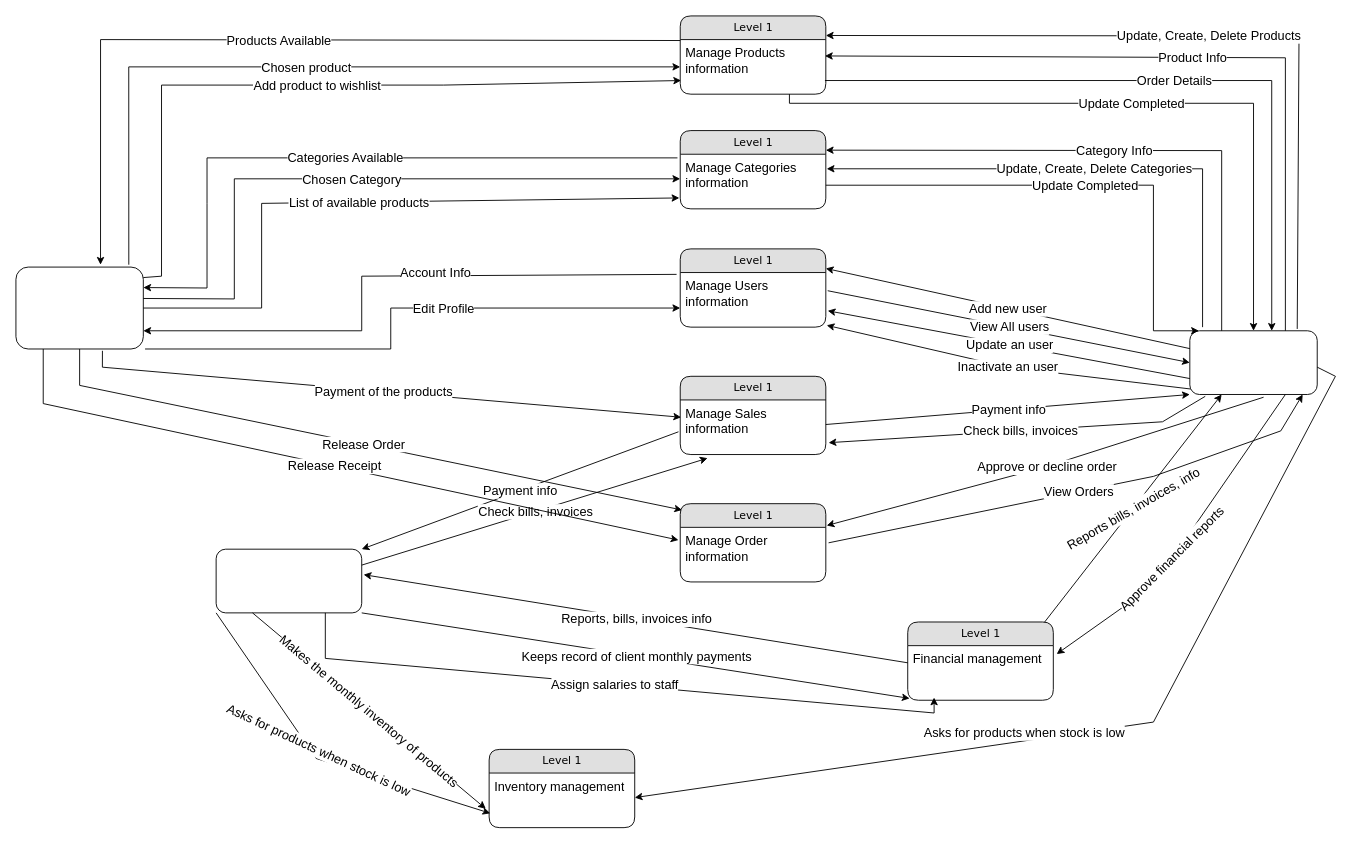
The diagram is 1359 pixels wide and 844 high, and some of its shapes have lost their labels. The shapes that lost their labels are listed below. From the top down, each one's centre as x and y in pixels, then its label:
the point at 79,307: Client
the point at 1253,362: Admin
the point at 288,580: Economist
